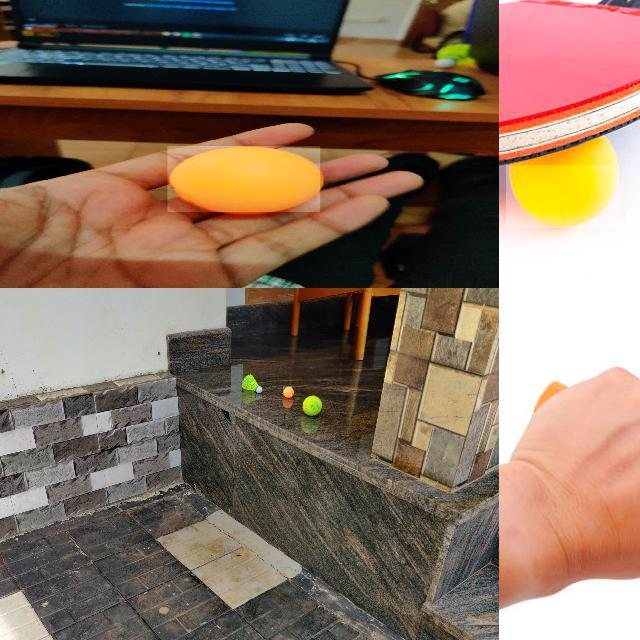ping-pong-ball: (168, 146, 322, 212), (506, 165, 620, 229), (282, 386, 294, 398)
